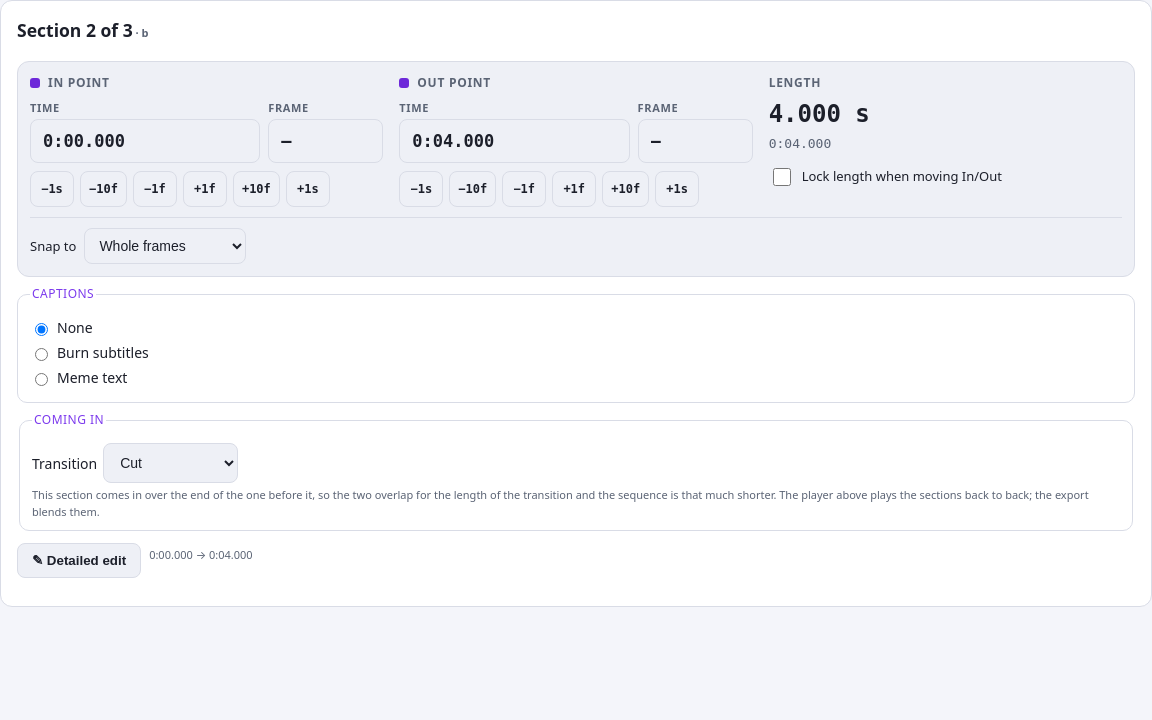
it: the transition box of a section › picks a kind, sets its length within the limit, and goes back to a cut
Expected: the field labelled "Transition length" is not shown
Select "Wipe left" in the dropdown labelled "Transition" at (171,463), box [103,443,238,483]
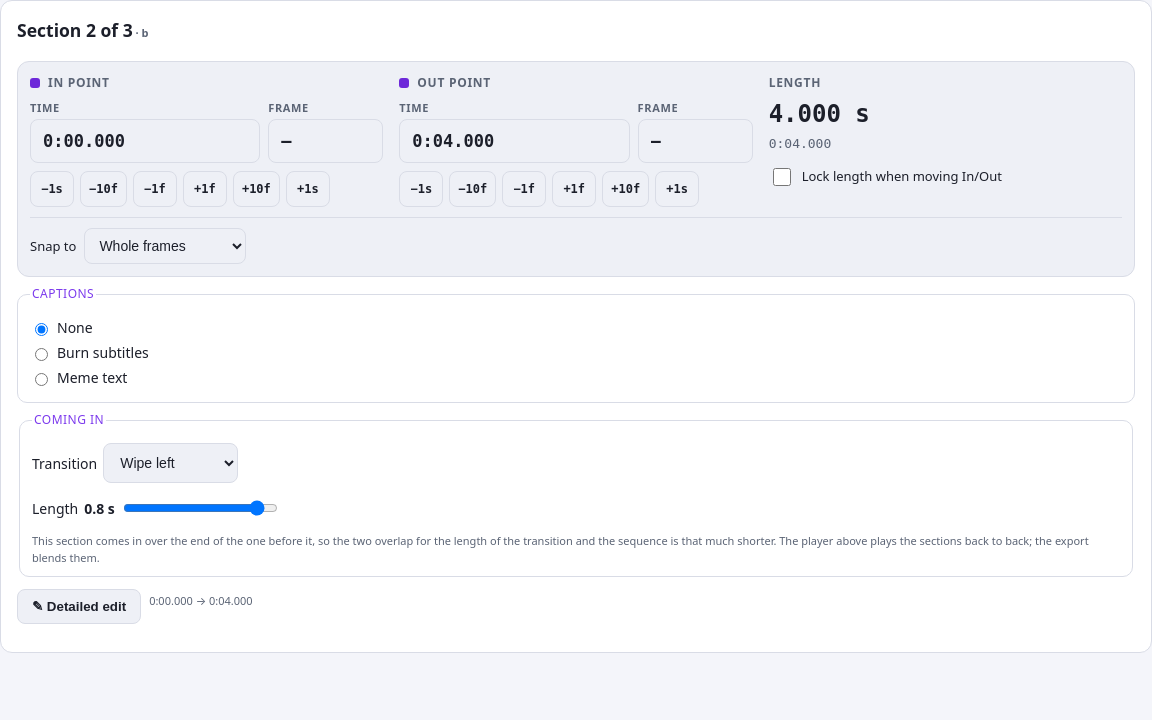
Set the slider named "Transition length" to "300" at (171,508), box [123,489,278,527]
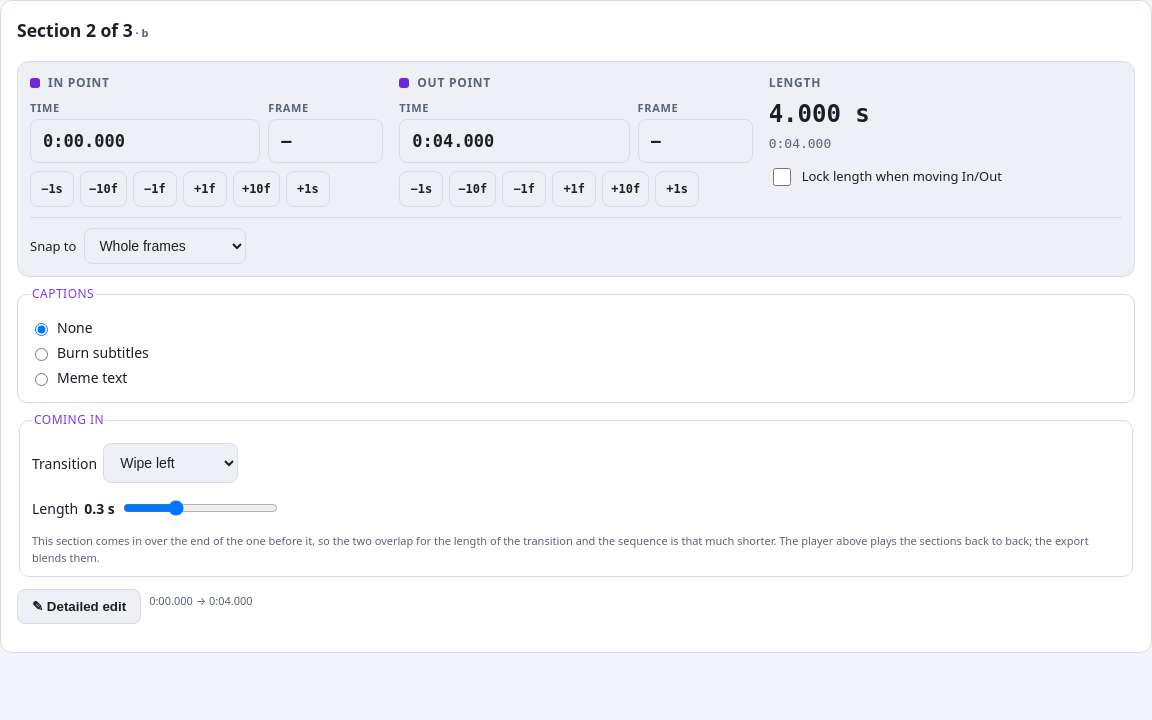
Select "Cut" in the dropdown labelled "Transition" at (171,463), box [103,443,238,483]
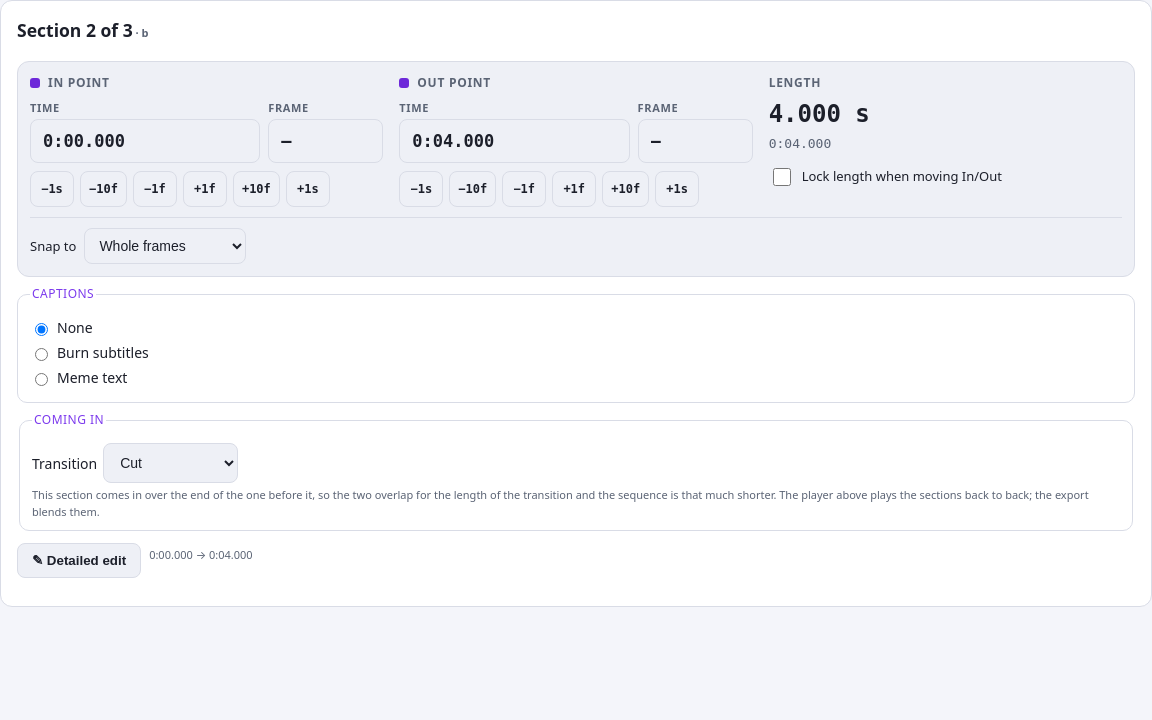
Now the field labelled "Transition Length" is gone
